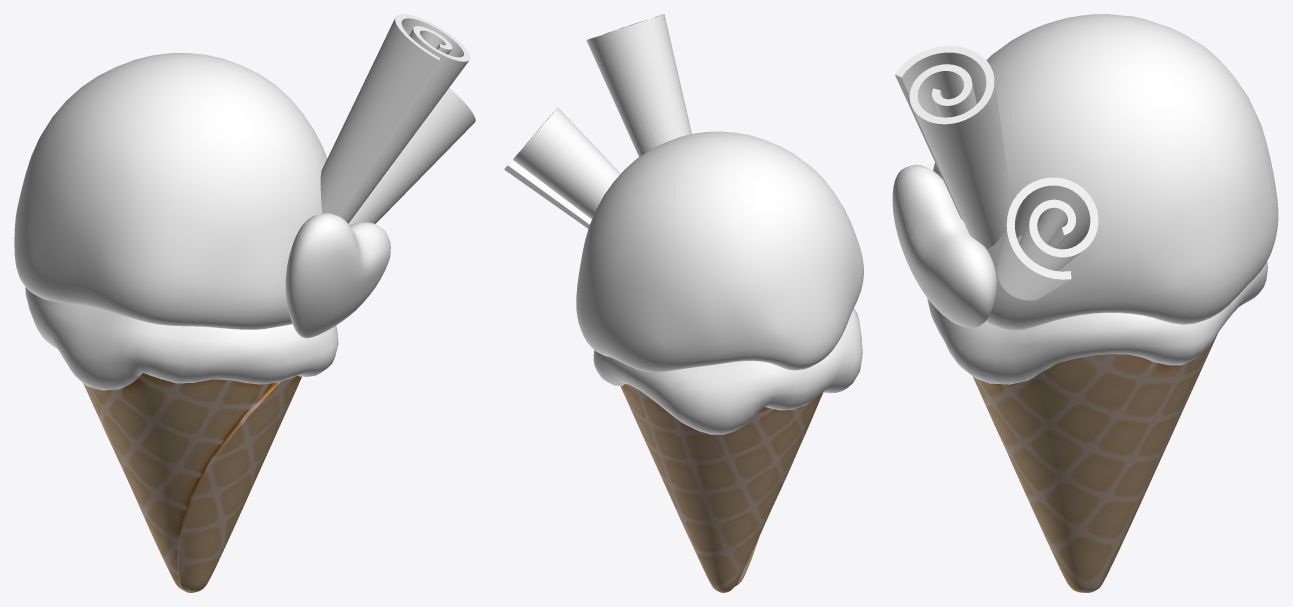
File: Project Name.gltf
3 renders of one model, left to right at view 1: azimuth 30°, elevation 25°; view 2: azimuth 150°, elevation 25°; view 3: azimuth 270°, elevation 25°, orthographic. The views are drawn at different scales.
Parts seen in each view (by area): view 1: Caramel ice cream, Cornet, Dark caramel ice cream, Cinnamon stick, White chocolate heart, Cinnamon stick 2; view 2: Caramel ice cream, Cornet, Dark caramel ice cream, Cinnamon stick, Cinnamon stick 2; view 3: Caramel ice cream, Cornet, Cinnamon stick, Dark caramel ice cream, White chocolate heart, Cinnamon stick 2.
Part boxes in pixels (left/top/right/bottom): Caramel ice cream: left=14, top=53, right=327, bottom=329; Cornet: left=83, top=373, right=301, bottom=592; Dark caramel ice cream: left=25, top=287, right=338, bottom=390; Cinnamon stick: left=320, top=14, right=470, bottom=223; White chocolate heart: left=285, top=213, right=390, bottom=338; Cinnamon stick 2: left=348, top=88, right=475, bottom=225; Caramel ice cream: left=576, top=131, right=863, bottom=372; Cornet: left=620, top=384, right=822, bottom=592; Dark caramel ice cream: left=593, top=308, right=862, bottom=434; Cinnamon stick: left=586, top=14, right=691, bottom=156; Cinnamon stick 2: left=504, top=107, right=620, bottom=228; Caramel ice cream: left=933, top=14, right=1278, bottom=330; Cornet: left=973, top=334, right=1217, bottom=592; Cinnamon stick: left=895, top=46, right=1010, bottom=248; Dark caramel ice cream: left=927, top=261, right=1267, bottom=384; White chocolate heart: left=892, top=164, right=996, bottom=327; Cinnamon stick 2: left=996, top=177, right=1098, bottom=300.
Size of the model in its own units: 0.1284 by 0.1748 by 0.0982.
Materials: 5 (1 with a texture image).
